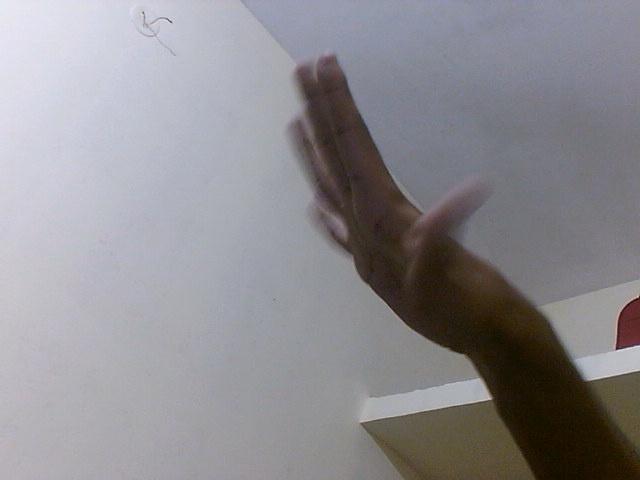hand: (282, 46, 562, 361)
